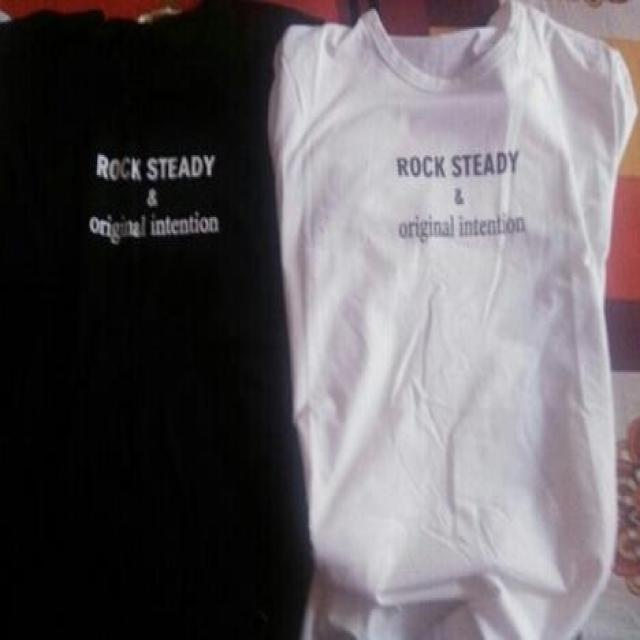short-sleeve-top: (281, 16, 640, 620)
